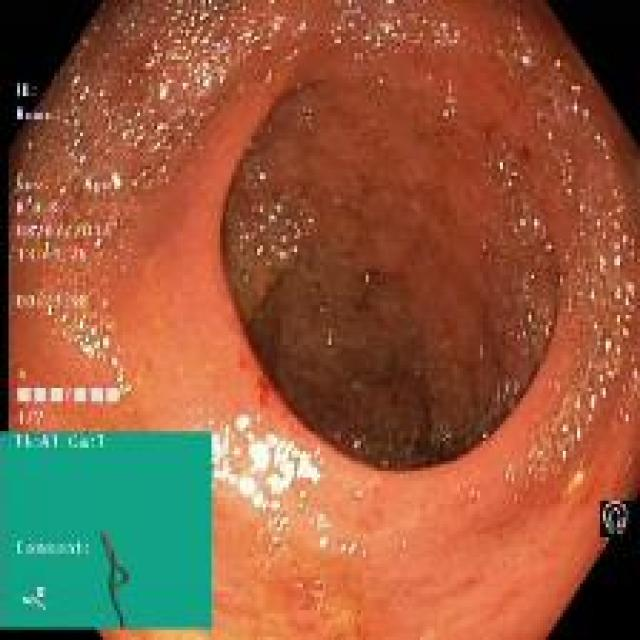ulcerative-colitis-grade-1: (10, 3, 640, 638)
